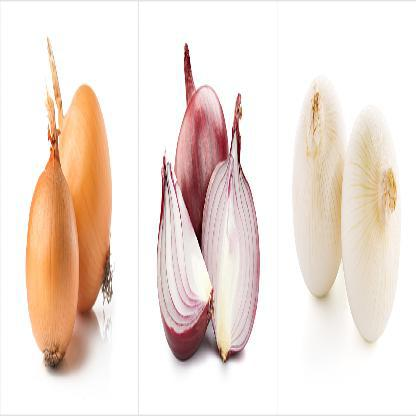onion: (196, 122, 258, 348), (342, 116, 400, 346), (290, 55, 345, 290), (59, 68, 115, 297), (154, 162, 210, 386), (29, 158, 74, 359), (178, 73, 224, 222)
